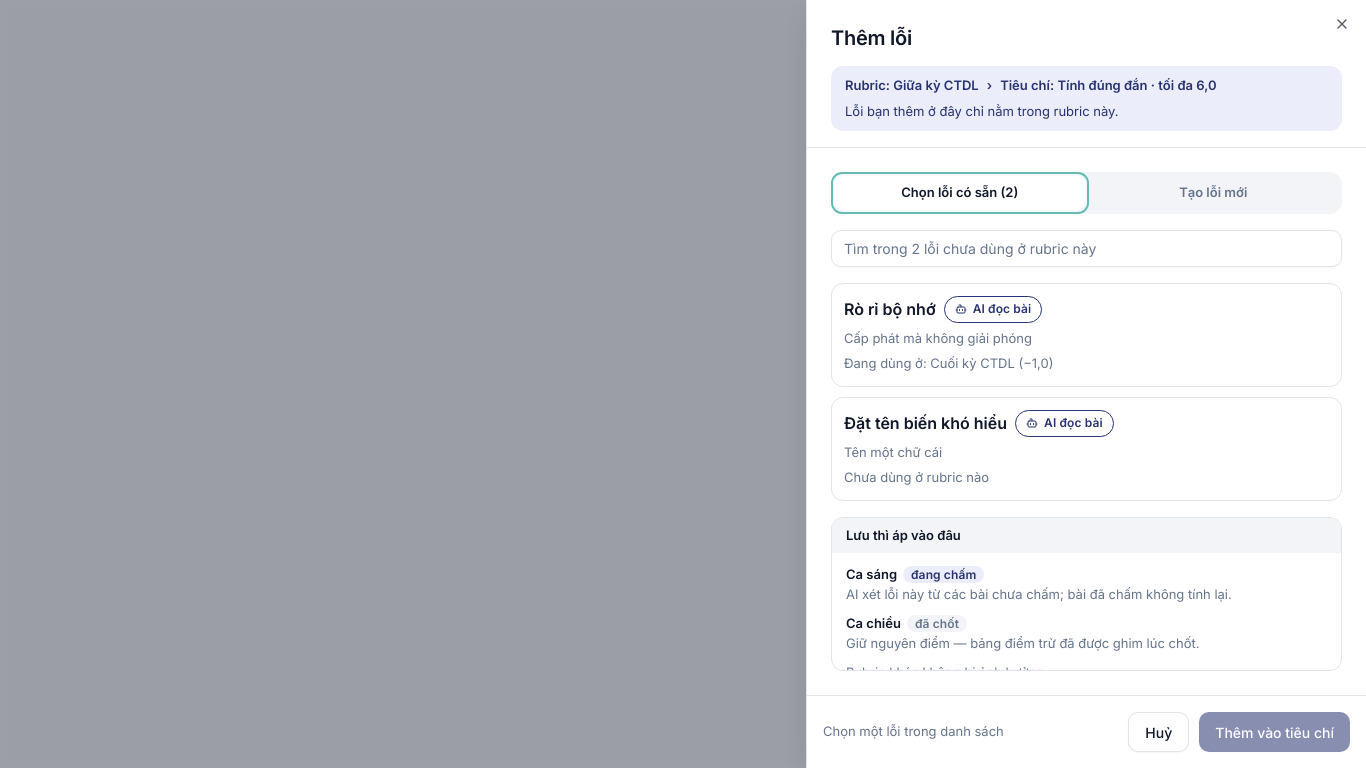
Test: AddErrorDrawer — chọn lỗi có sẵn › điểm trừ sai định dạng khoá nút lưu và nói lý do
Click the button "Rò rỉ bộ nhớ". click: (890,309)
box: [831,283,1342,387]
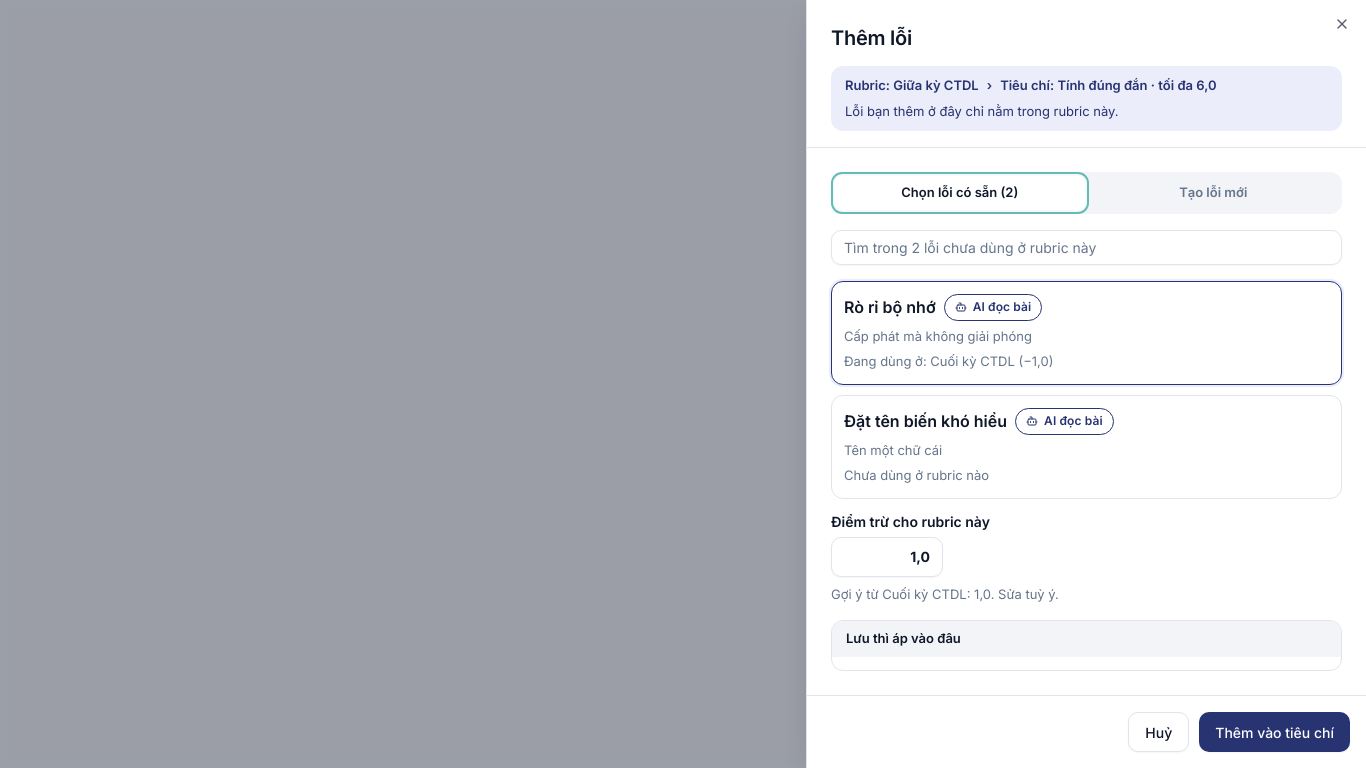
Replace the text in the field labelled "Điểm trừ cho rubric này" with "abc". click: (887,557)
box: [831,537,943,577]
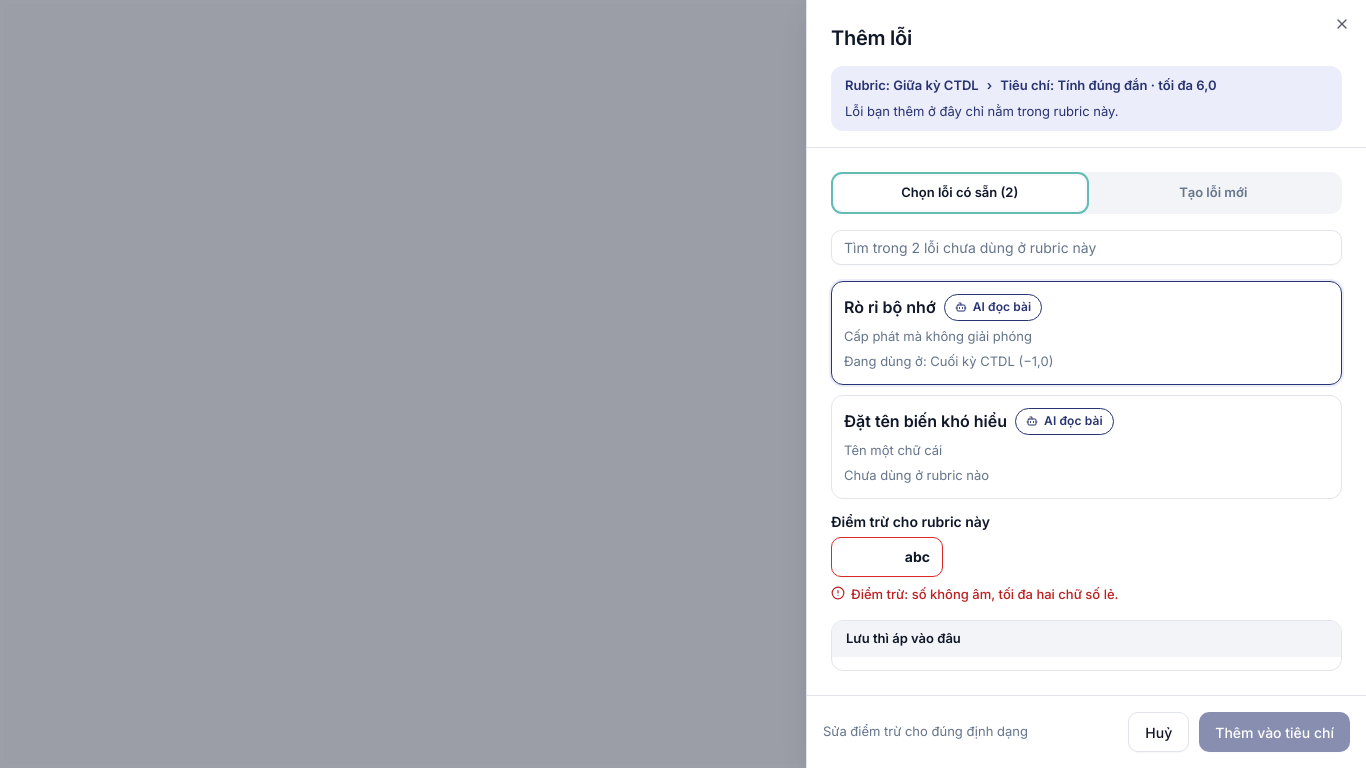
Now the button "Thêm vào tiêu chí" is disabled, box [1199,712,1350,752]
Now the text "Điểm trừ: số không âm, tối đa hai chữ số lẻ." is shown, box [831,586,1118,602]
